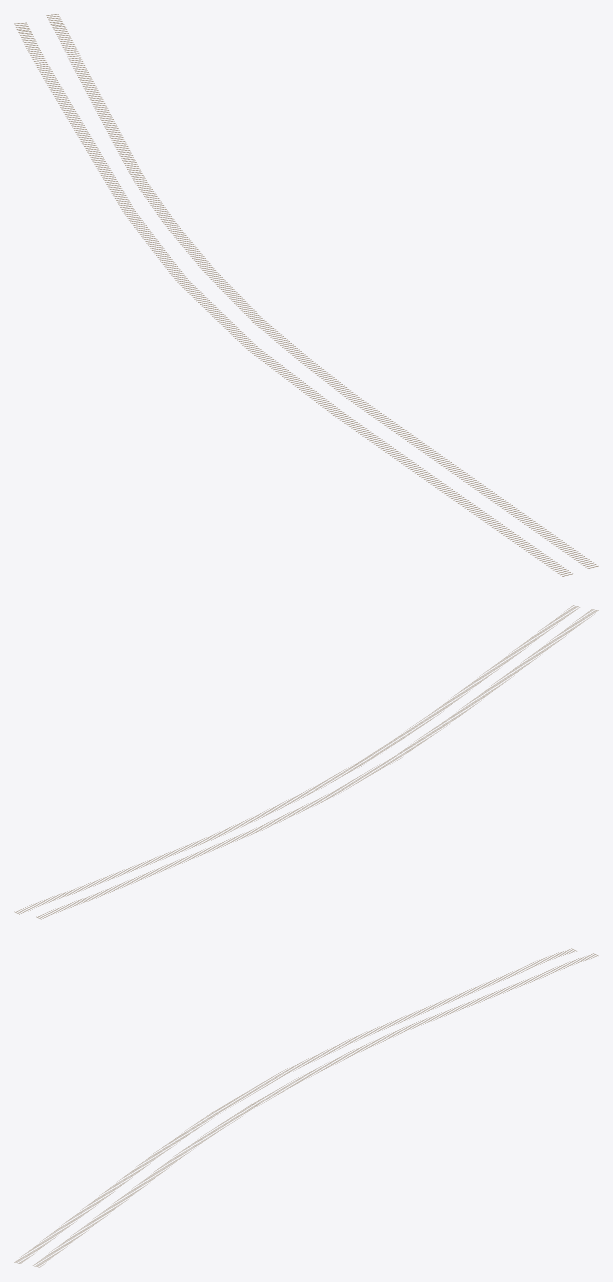
The model's file is c_1629_17834_rail_sleeper.glb.
The picture shows the model from 3 angles, top to bottom: view 1: azimuth 30°, elevation 25°; view 2: azimuth 150°, elevation 25°; view 3: azimuth 330°, elevation 25°; orthographic projection. The views are drawn at different scales.
Parts seen in each view (by area): view 1: geometry_0; view 2: geometry_0; view 3: geometry_0.
Boxes of the visible parts, x1,y1,x2,y2 form: geometry_0: (14, 14, 598, 576); geometry_0: (14, 605, 598, 919); geometry_0: (14, 948, 598, 1267).
Bounding box in the file's own units: 42.98 × 1.01 × 256.
